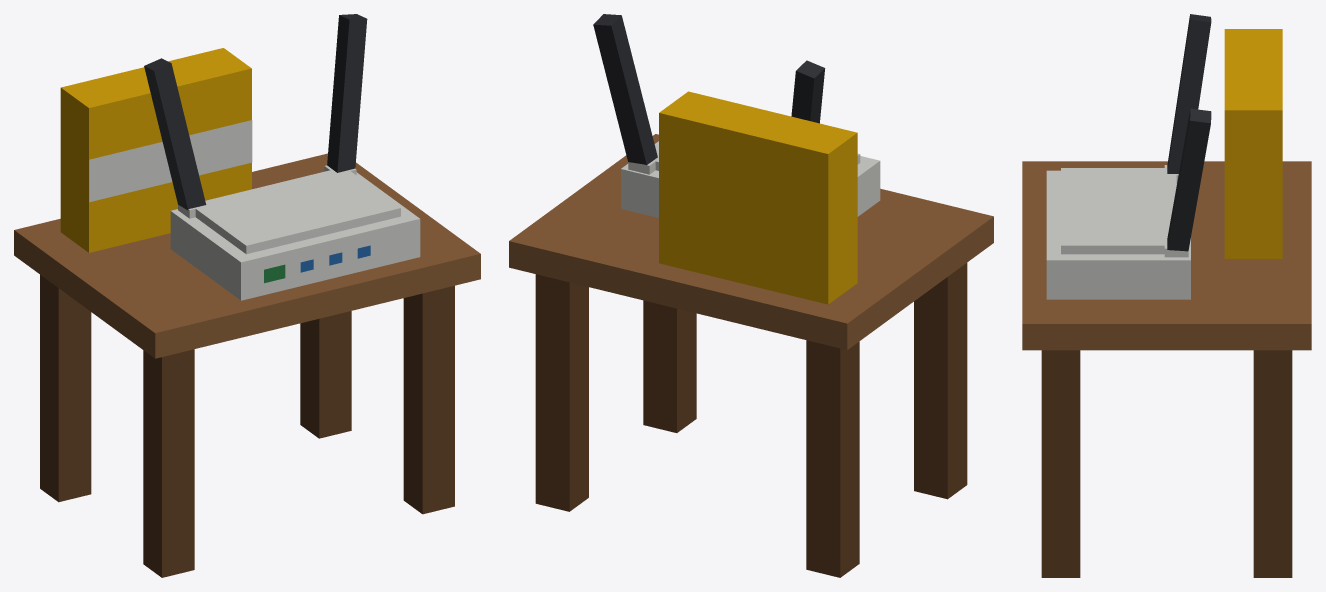
Rendered from prop_router.glb.
3 renders of one model, left to right at view 1: azimuth 30°, elevation 25°; view 2: azimuth 150°, elevation 25°; view 3: azimuth 270°, elevation 25°, orthographic. The views are drawn at different scales.
Visible parts, largest first — view 1: body; view 2: body; view 3: body.
Part boxes in pixels (x1,y1,x2,y2): body: [14, 14, 480, 577]; body: [509, 14, 993, 577]; body: [1022, 14, 1311, 577].
Bounding box in the file's own units: 0.4 × 0.5185 × 0.3.
